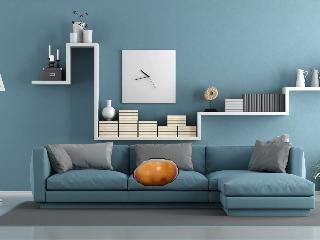potato: (134, 159, 178, 190)
